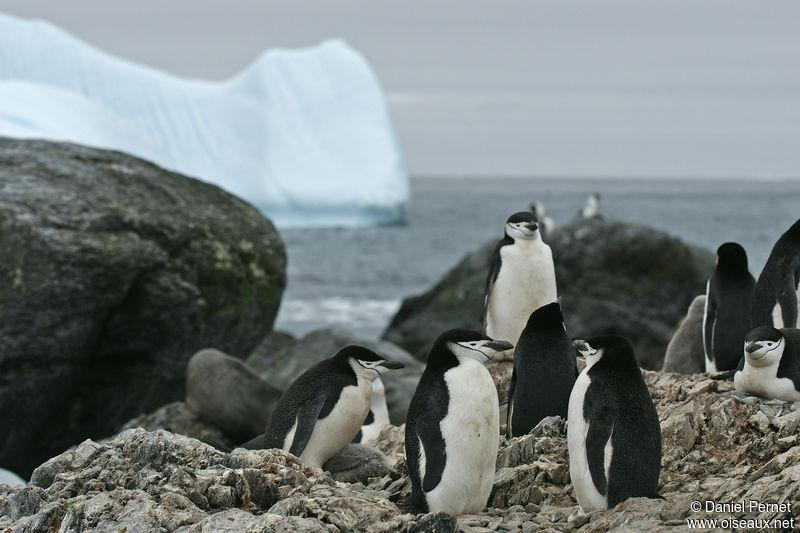Penguin: (405, 328, 514, 514), (567, 333, 667, 509), (263, 345, 403, 466), (505, 302, 579, 438), (486, 210, 557, 343), (702, 241, 756, 374), (751, 219, 799, 328), (734, 325, 798, 400), (663, 295, 705, 374), (351, 378, 390, 444)
